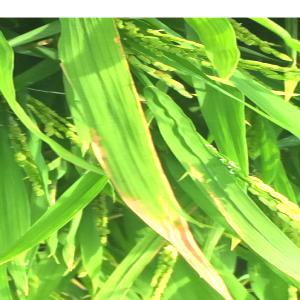2 BacterialBlight: (91, 79, 156, 228)
